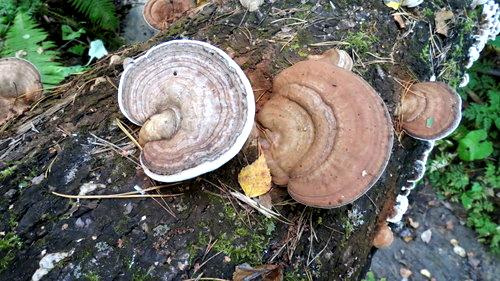Ganoderma - Fruit Body: (116, 37, 260, 184), (266, 54, 396, 212), (403, 79, 464, 144)
